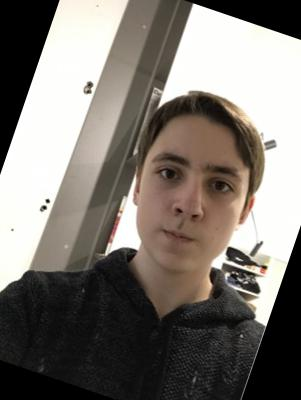without_mask: (116, 133, 257, 289)
